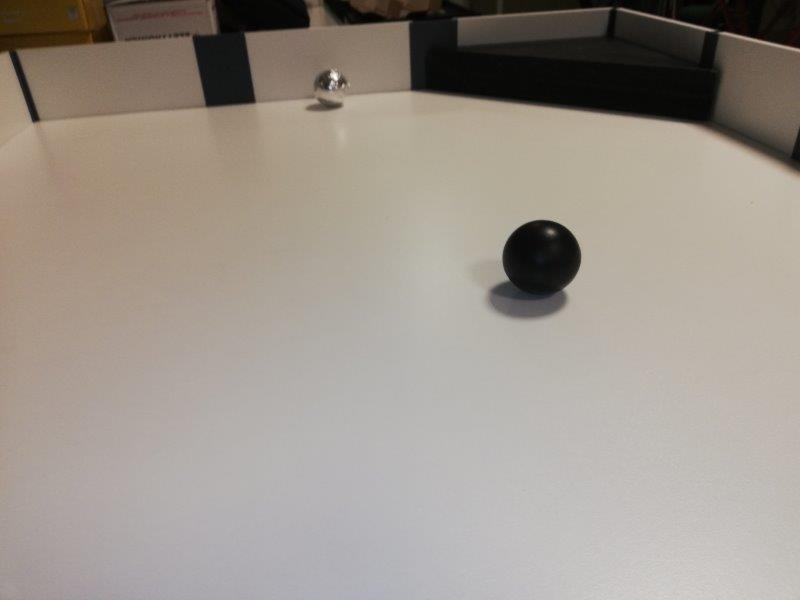bianca: (312, 66, 350, 107)
nera: (502, 220, 580, 297)
